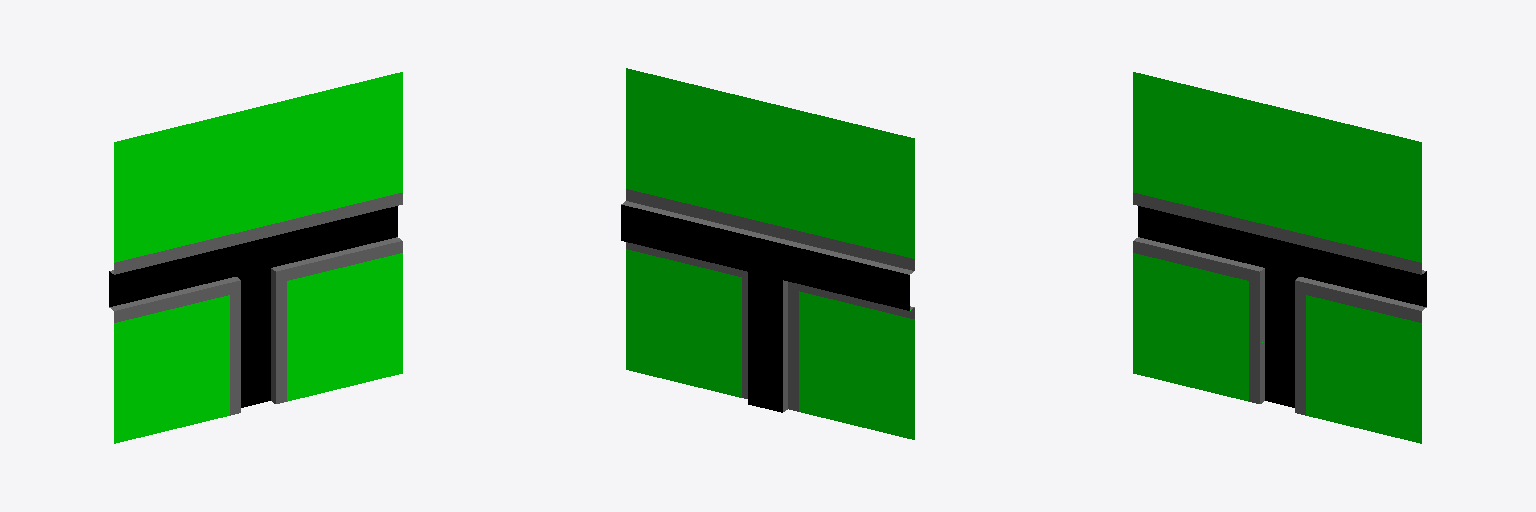
3 renders of one model, left to right at view 1: azimuth 30°, elevation 25°; view 2: azimuth 150°, elevation 25°; view 3: azimuth 330°, elevation 25°, orthographic.
Visible parts, largest first — view 1: Plane_Plane.001; view 2: Plane_Plane.001; view 3: Plane_Plane.001.
Part boxes in pixels (x1,y1,x2,y2): Plane_Plane.001: (109,72,402,443); Plane_Plane.001: (621,68,914,439); Plane_Plane.001: (1133,72,1426,443).
Size of the model in its own units: 10 by 10 by 0.3.
Materials: 1 (1 with a texture image).